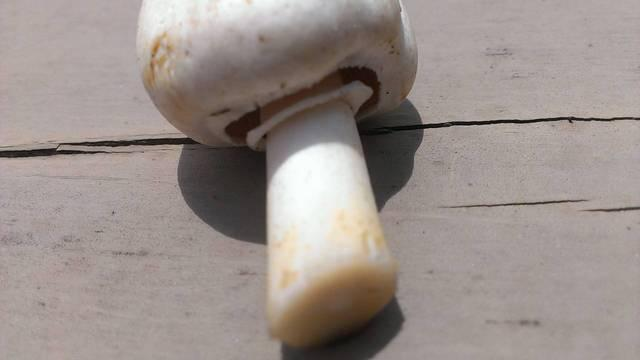poisonous_mushroom: (134, 0, 419, 348)
